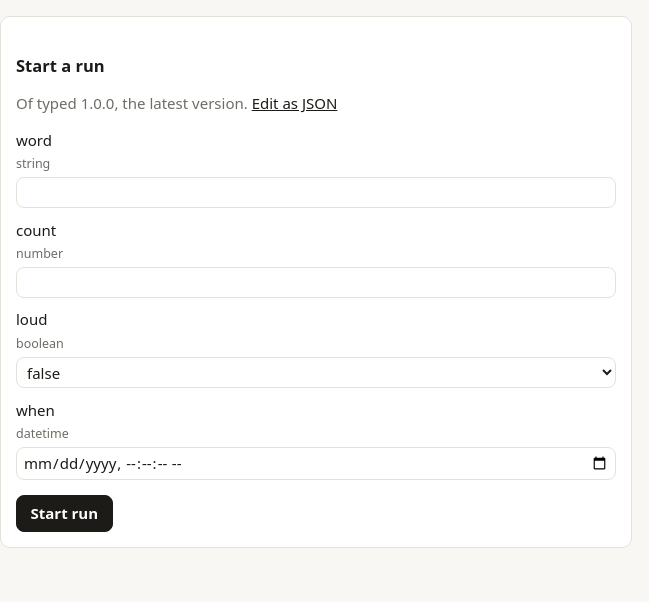
StartRunForm › refuses what a field cannot send, before asking the manager
Step 1. Type "many" into the field labelled "count number" → (316, 283), box [16,267,616,298]
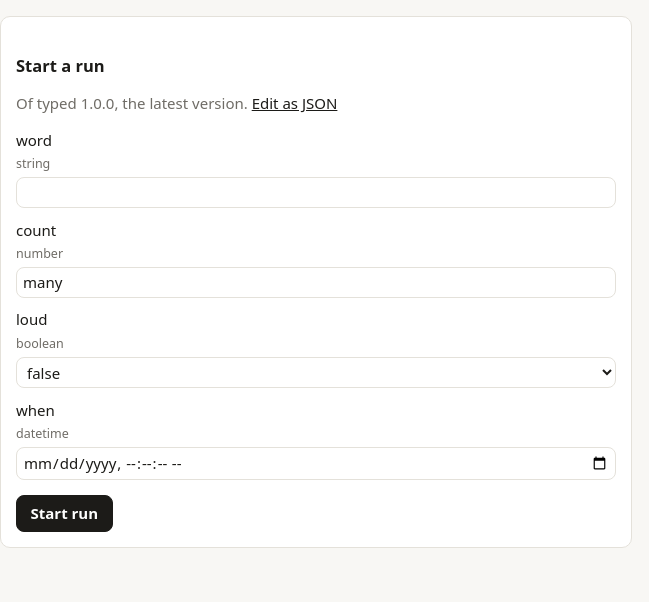
Step 2. Click the button "Start run" → (64, 514), box [16,495,113,532]
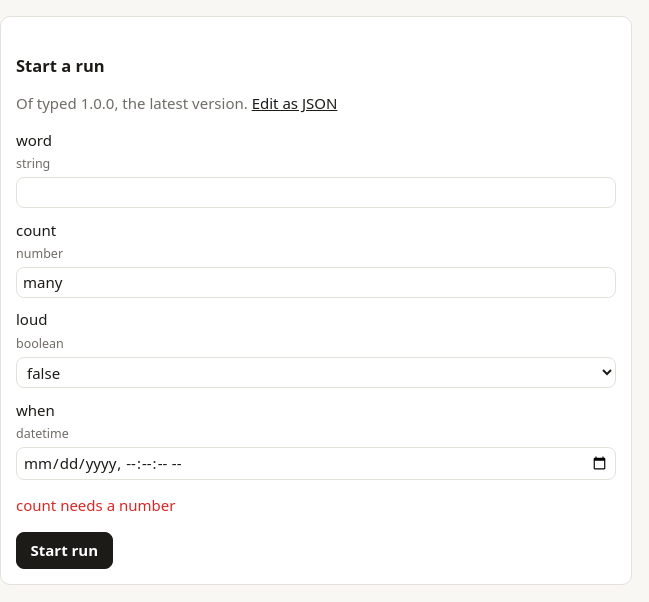
Expected: the message reads "count needs a number", [16,495,175,515]
